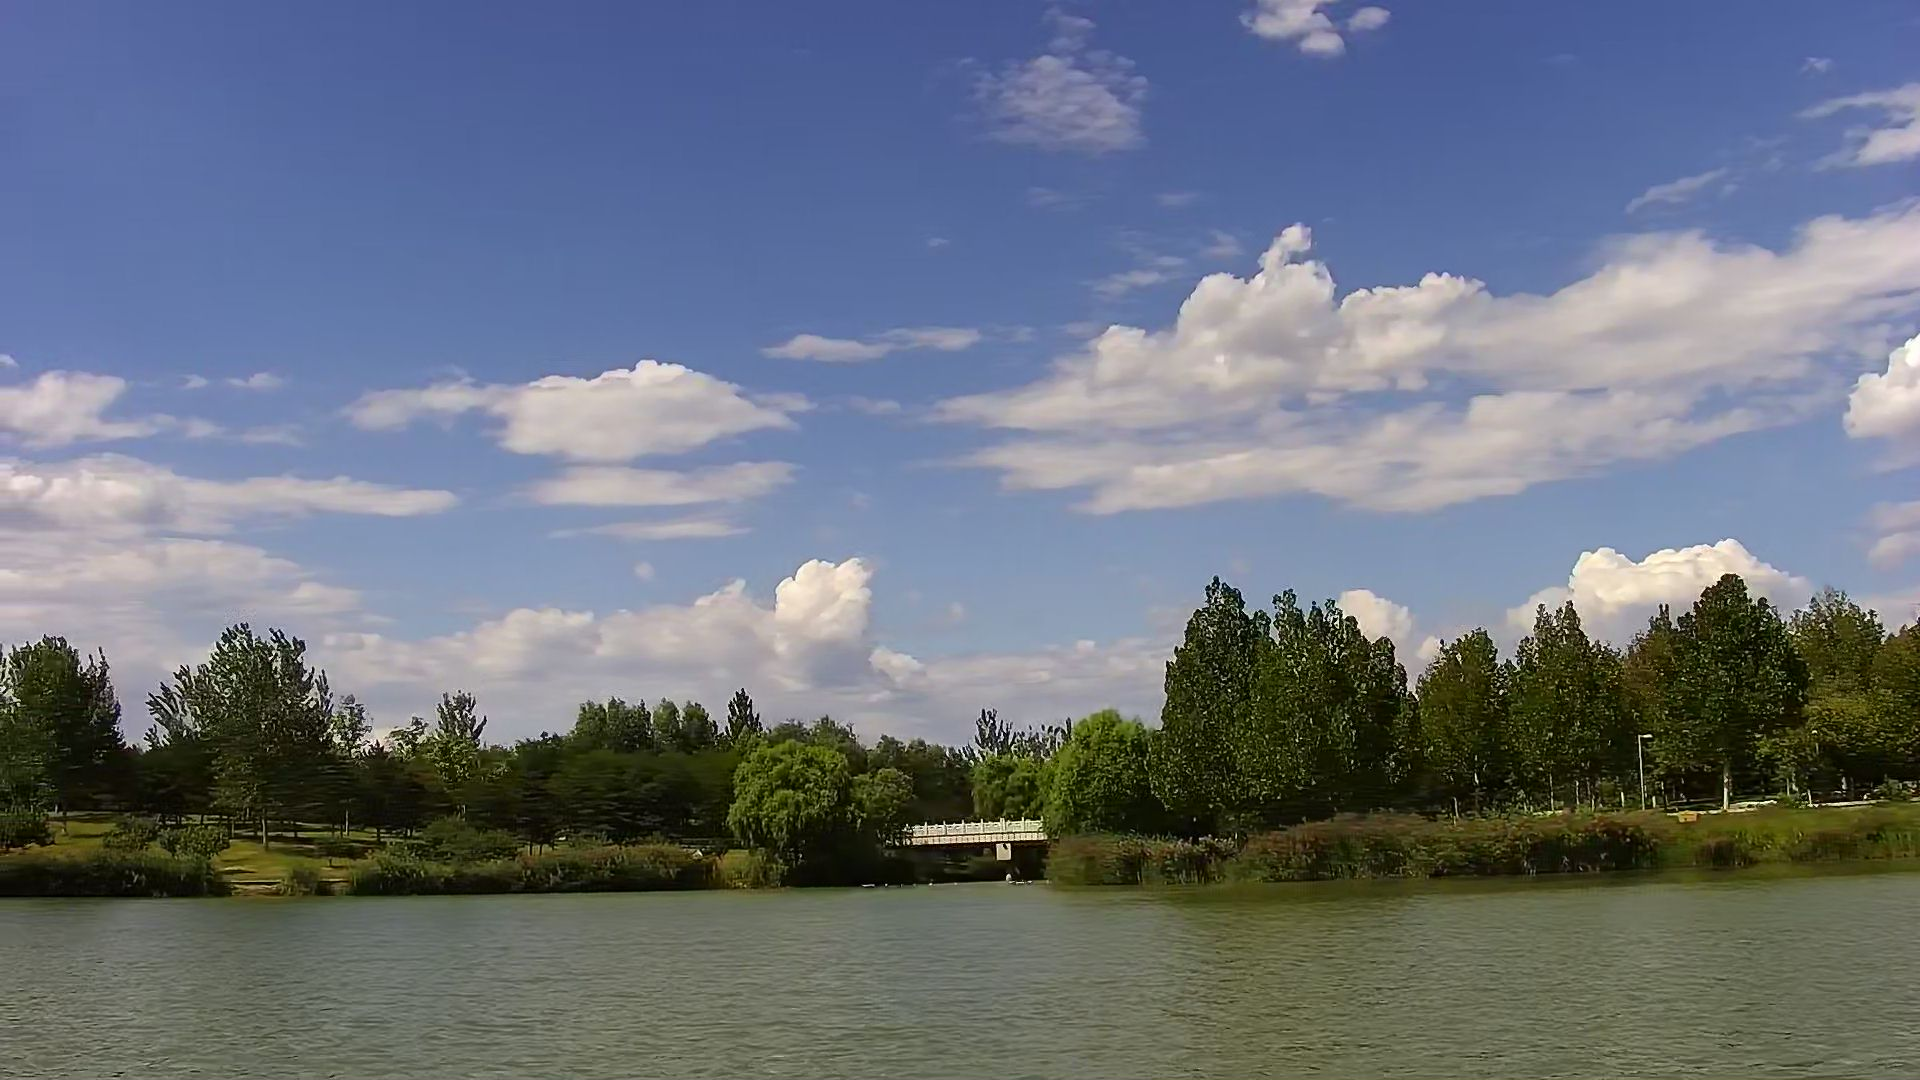bridge: (909, 819, 1046, 880)
